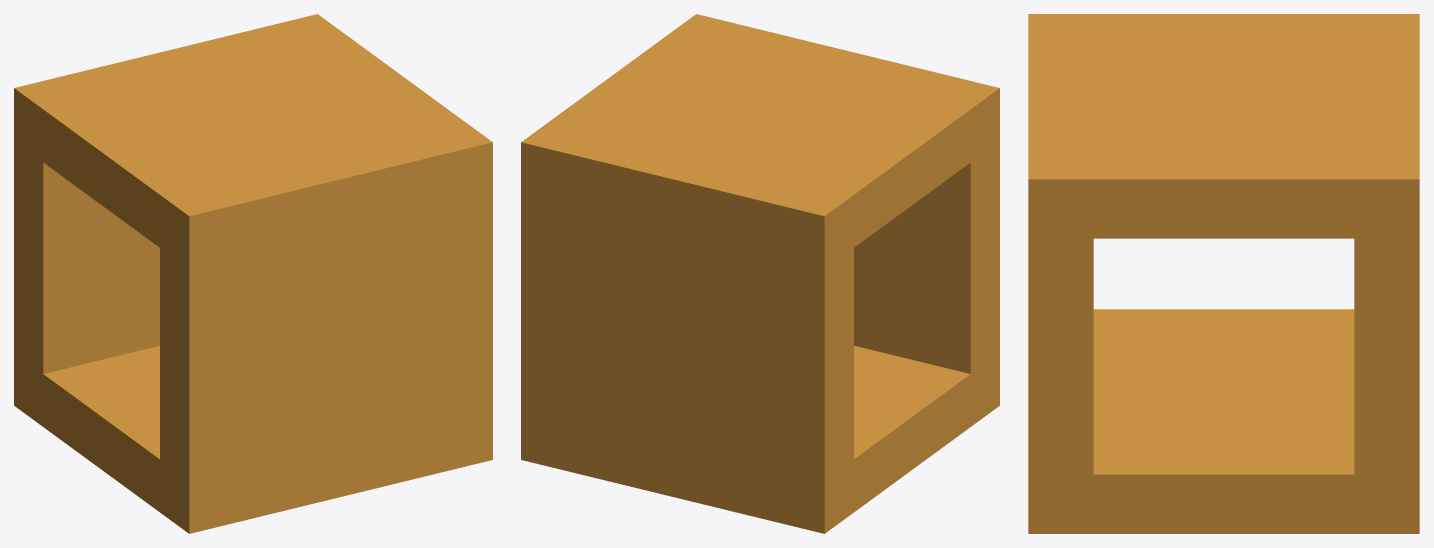
The model's file is GrapCharme.fbx.
3 renders of one model, left to right at view 1: azimuth 30°, elevation 25°; view 2: azimuth 150°, elevation 25°; view 3: azimuth 270°, elevation 25°, orthographic. The views are drawn at different scales.
Visible parts, largest first — view 1: GrabCharm; view 2: GrabCharm; view 3: GrabCharm.
Part boxes in pixels (box(x1,y1,x2,y2)): GrabCharm: box(14, 14, 492, 533); GrabCharm: box(521, 14, 999, 533); GrabCharm: box(1028, 14, 1419, 533).
Bounding box in the file's own units: 0.5 × 0.5 × 0.5.
